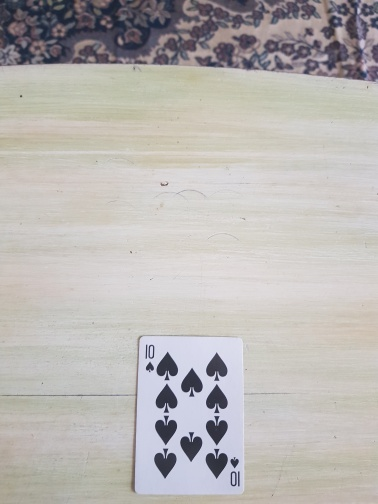ten: (131, 335, 247, 496)
